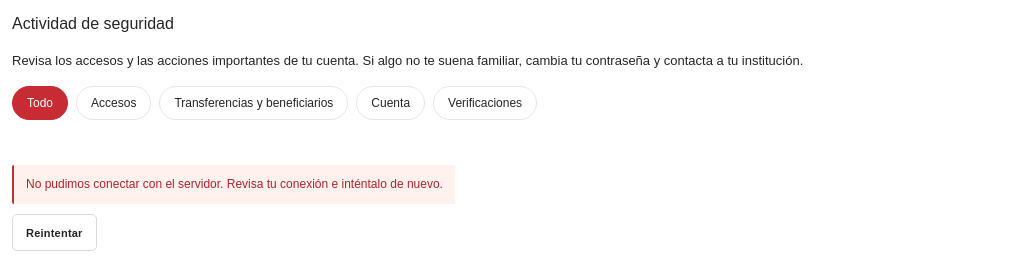
Test: ActivityFeed › reports a failure as an alert with a fixed message, and retries
expect the message "No pudimos conectar con el servidor. Revisa tu conexión e inténtalo de nuevo." is shown: met, box [12,165,455,204]
What coordinates should you click on to do the following:
click the button "Reintentar"
I would click on:
 (54, 233)
Its box is [12,214,97,252].
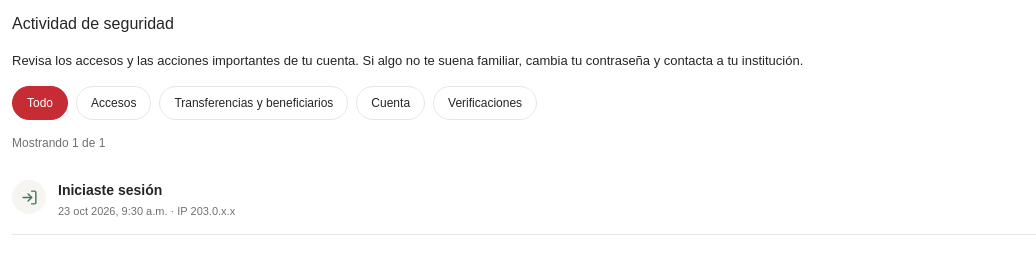
expect the number of list items is 1: met, box [12,166,1035,235]
